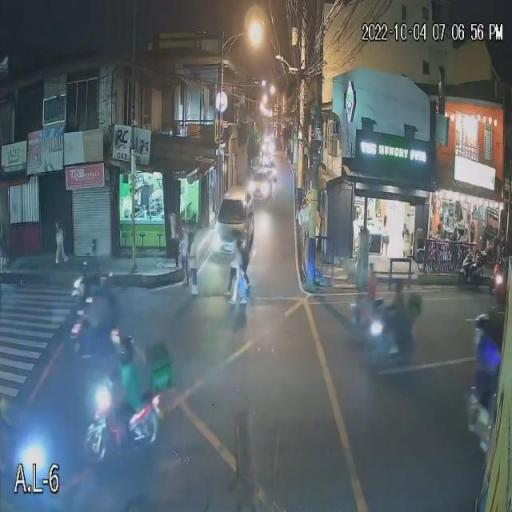helmet: (109, 336, 143, 366), (390, 276, 412, 294), (83, 238, 102, 256), (88, 283, 104, 304)
motorcycle: (81, 366, 164, 465), (346, 303, 418, 374), (67, 272, 111, 362), (458, 245, 487, 286)
rider: (85, 316, 143, 430), (72, 257, 118, 343), (471, 310, 503, 408), (381, 278, 418, 354), (358, 270, 384, 335)
